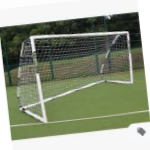goals: (16, 30, 135, 122)
